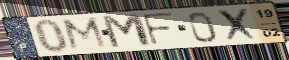0: (30, 18, 72, 54), (186, 10, 221, 44)
F: (139, 11, 176, 47)
M: (99, 12, 156, 51), (60, 16, 112, 53)
X: (215, 6, 261, 44)
